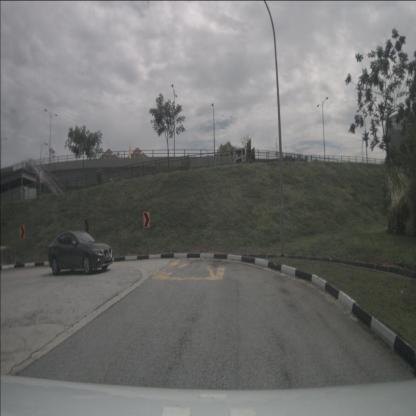vehicle-car: (48, 230, 114, 276)
vehicle-truck: (233, 139, 308, 168)
